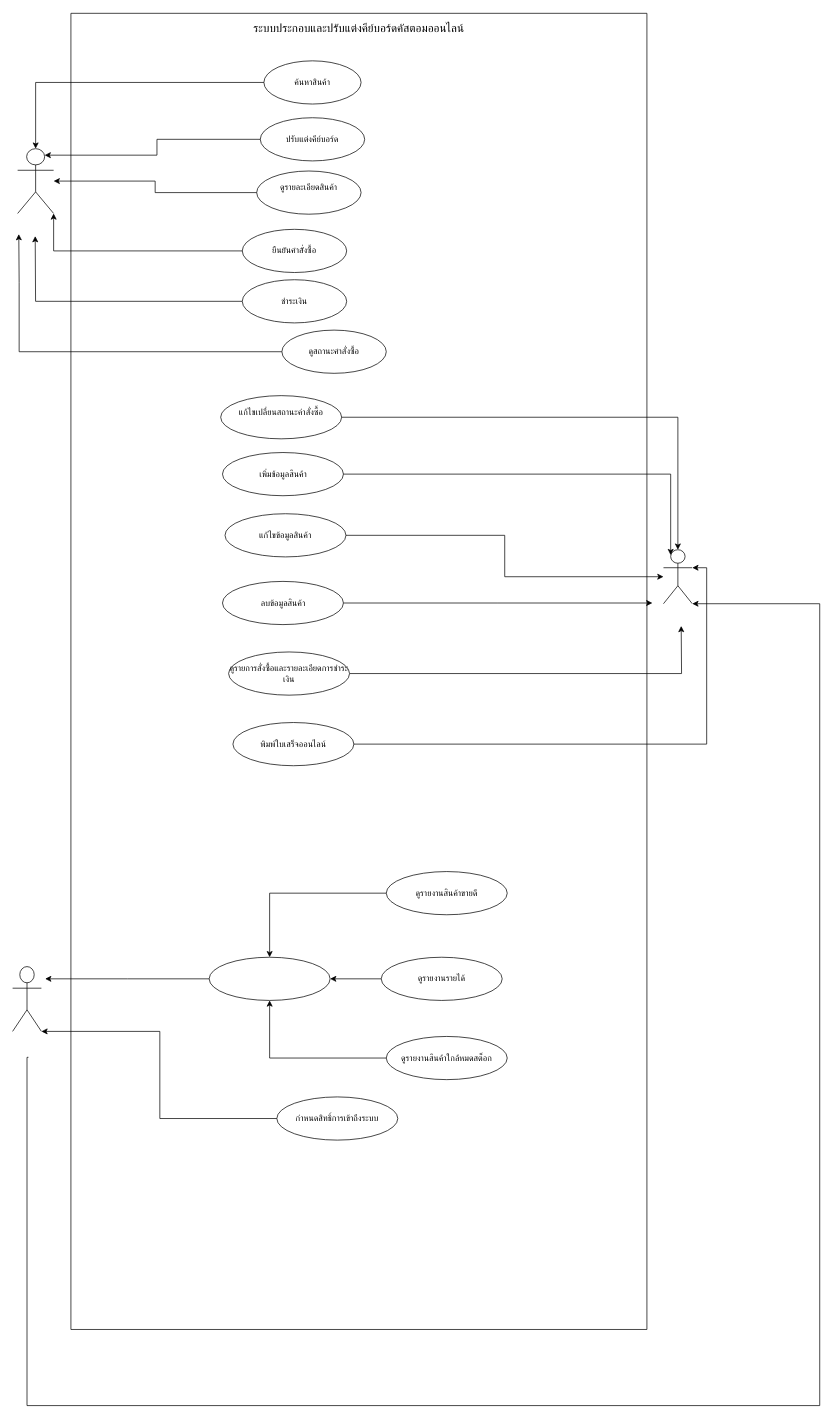
Some shapes in this 838 by 1424 pixel diagram are drawn without their labels. Each missing label, with the box of its shape:
ดูรายงาน: (208, 957, 330, 1000)
พนักงาน: (663, 549, 692, 604)
ลูกค้า: (17, 148, 54, 213)
เจ้าของ: (12, 966, 41, 1031)
